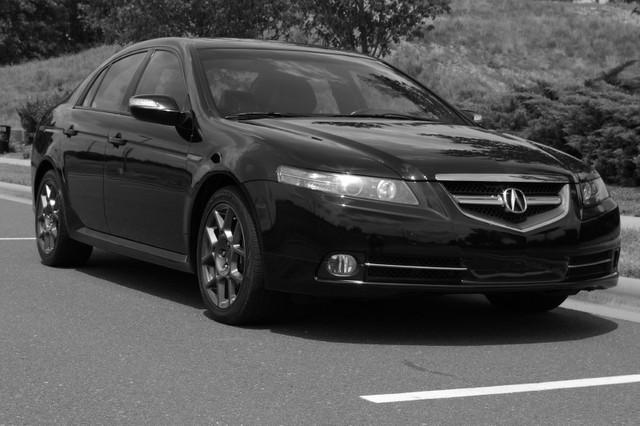car: (29, 33, 624, 331)
